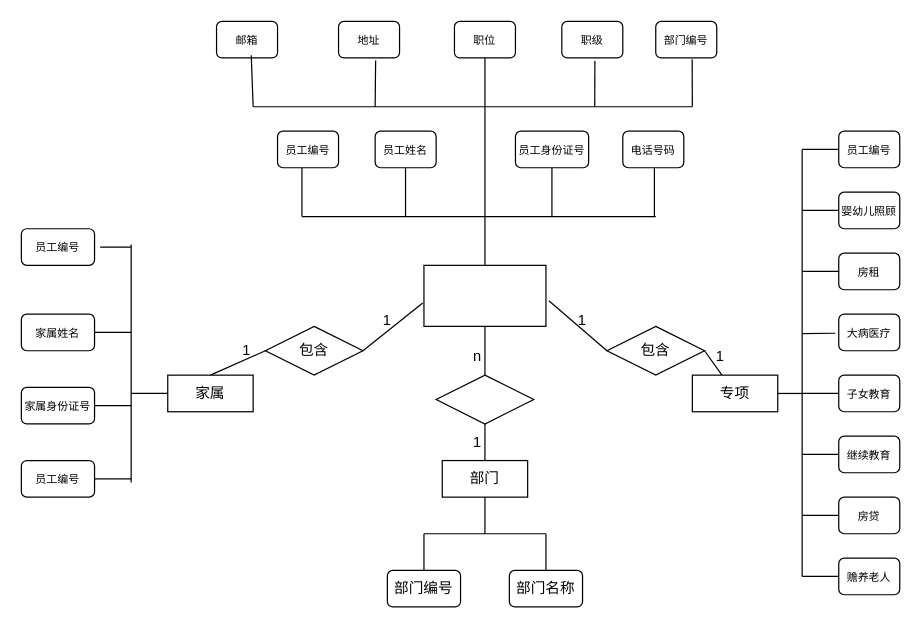
Image size: 921x628. Some labels were removed from this diagram. The shapes that lost their labels are listed below. From the top down, each one's centre as x and y in pixels, then its label:
pixel 484 295: 员工
pixel 484 399: 任职
